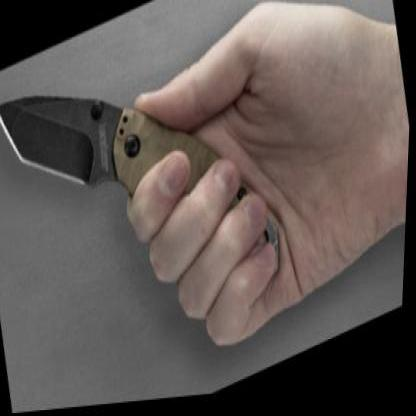knife: (0, 0, 278, 342)
